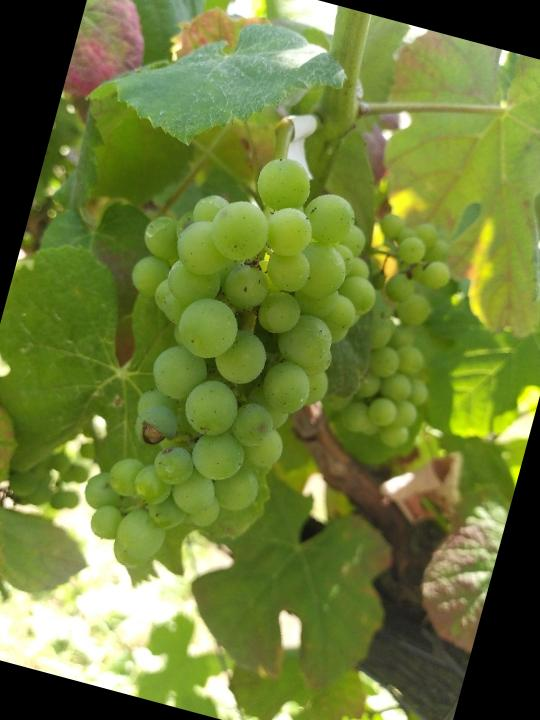grape: (51, 121, 407, 619)
